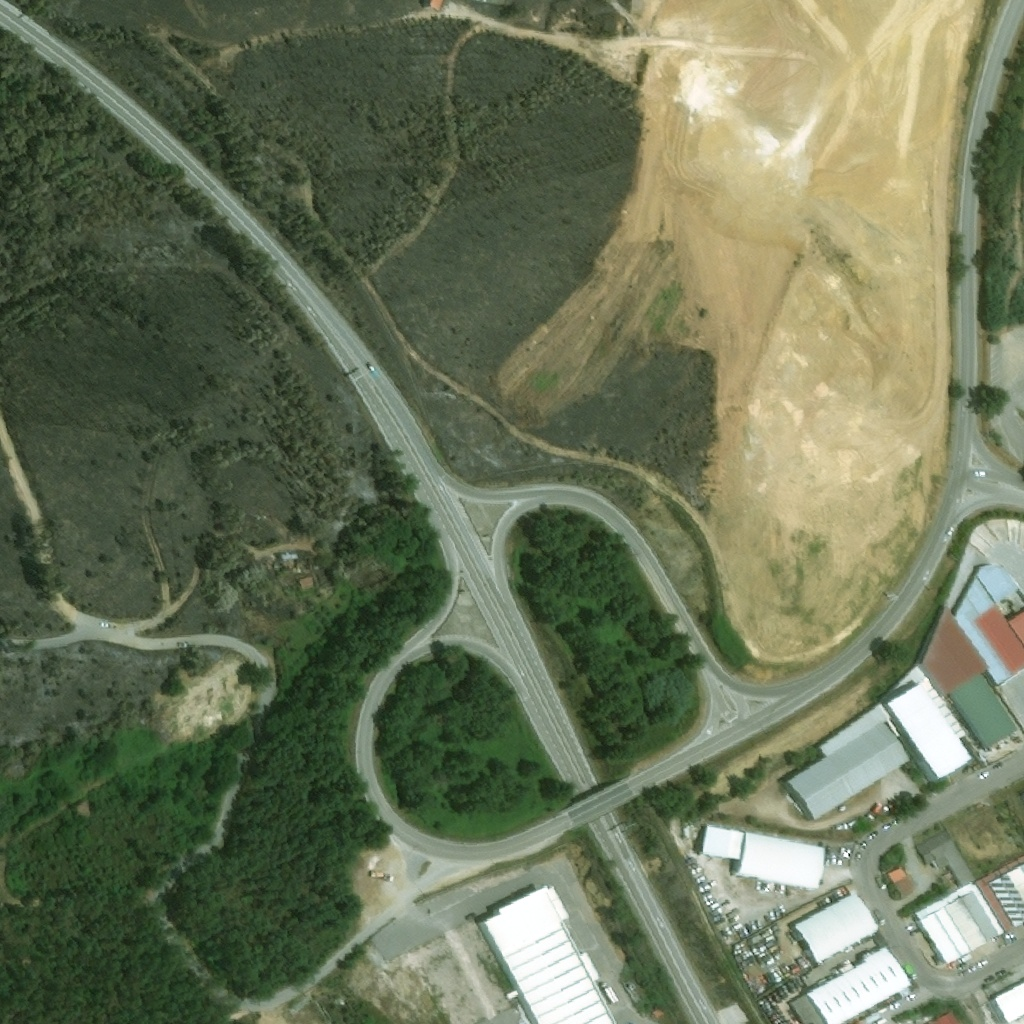0 no-damage: (478, 884, 616, 1023), (920, 608, 1019, 750), (784, 722, 913, 824), (789, 945, 916, 1023), (887, 680, 974, 779), (955, 566, 1023, 685), (700, 825, 825, 889), (913, 883, 1006, 968), (792, 890, 879, 964), (821, 703, 892, 757), (915, 830, 976, 889), (988, 864, 1023, 929), (996, 982, 1023, 1023), (886, 867, 916, 900), (300, 577, 315, 591)
1 minor-damage: (281, 555, 300, 569)
4 un-classified: (429, 0, 443, 11)
